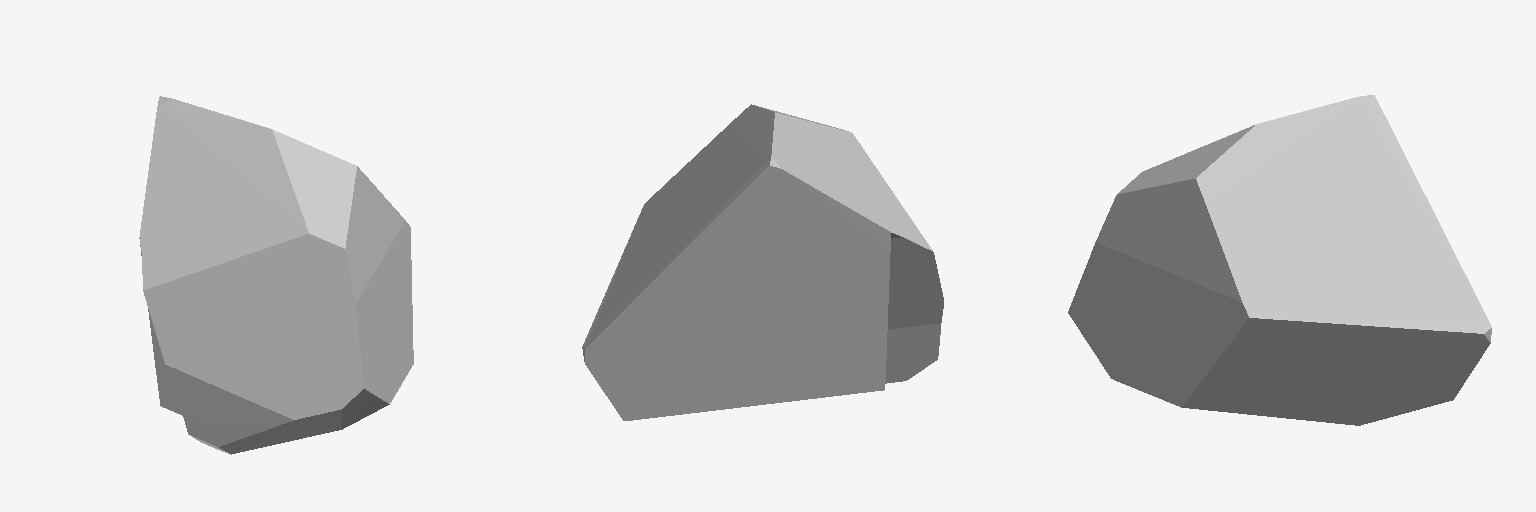
The model's file is li-fang-ti-.001_cell.038.obj.
3 views of the same model, side by side, from view 1: azimuth 30°, elevation 25°; view 2: azimuth 150°, elevation 25°; view 3: azimuth 270°, elevation 25° (orthographic).
Visible parts, largest first — view 1: 立方体.001_cell.038; view 2: 立方体.001_cell.038; view 3: 立方体.001_cell.038.
Boxes of the visible parts, x1,y1,x2,y2 form: 立方体.001_cell.038: [139, 96, 413, 454]; 立方体.001_cell.038: [582, 104, 943, 420]; 立方体.001_cell.038: [1068, 95, 1491, 425].
Size of the model in its own units: 0.2827 by 0.2688 by 0.3727.